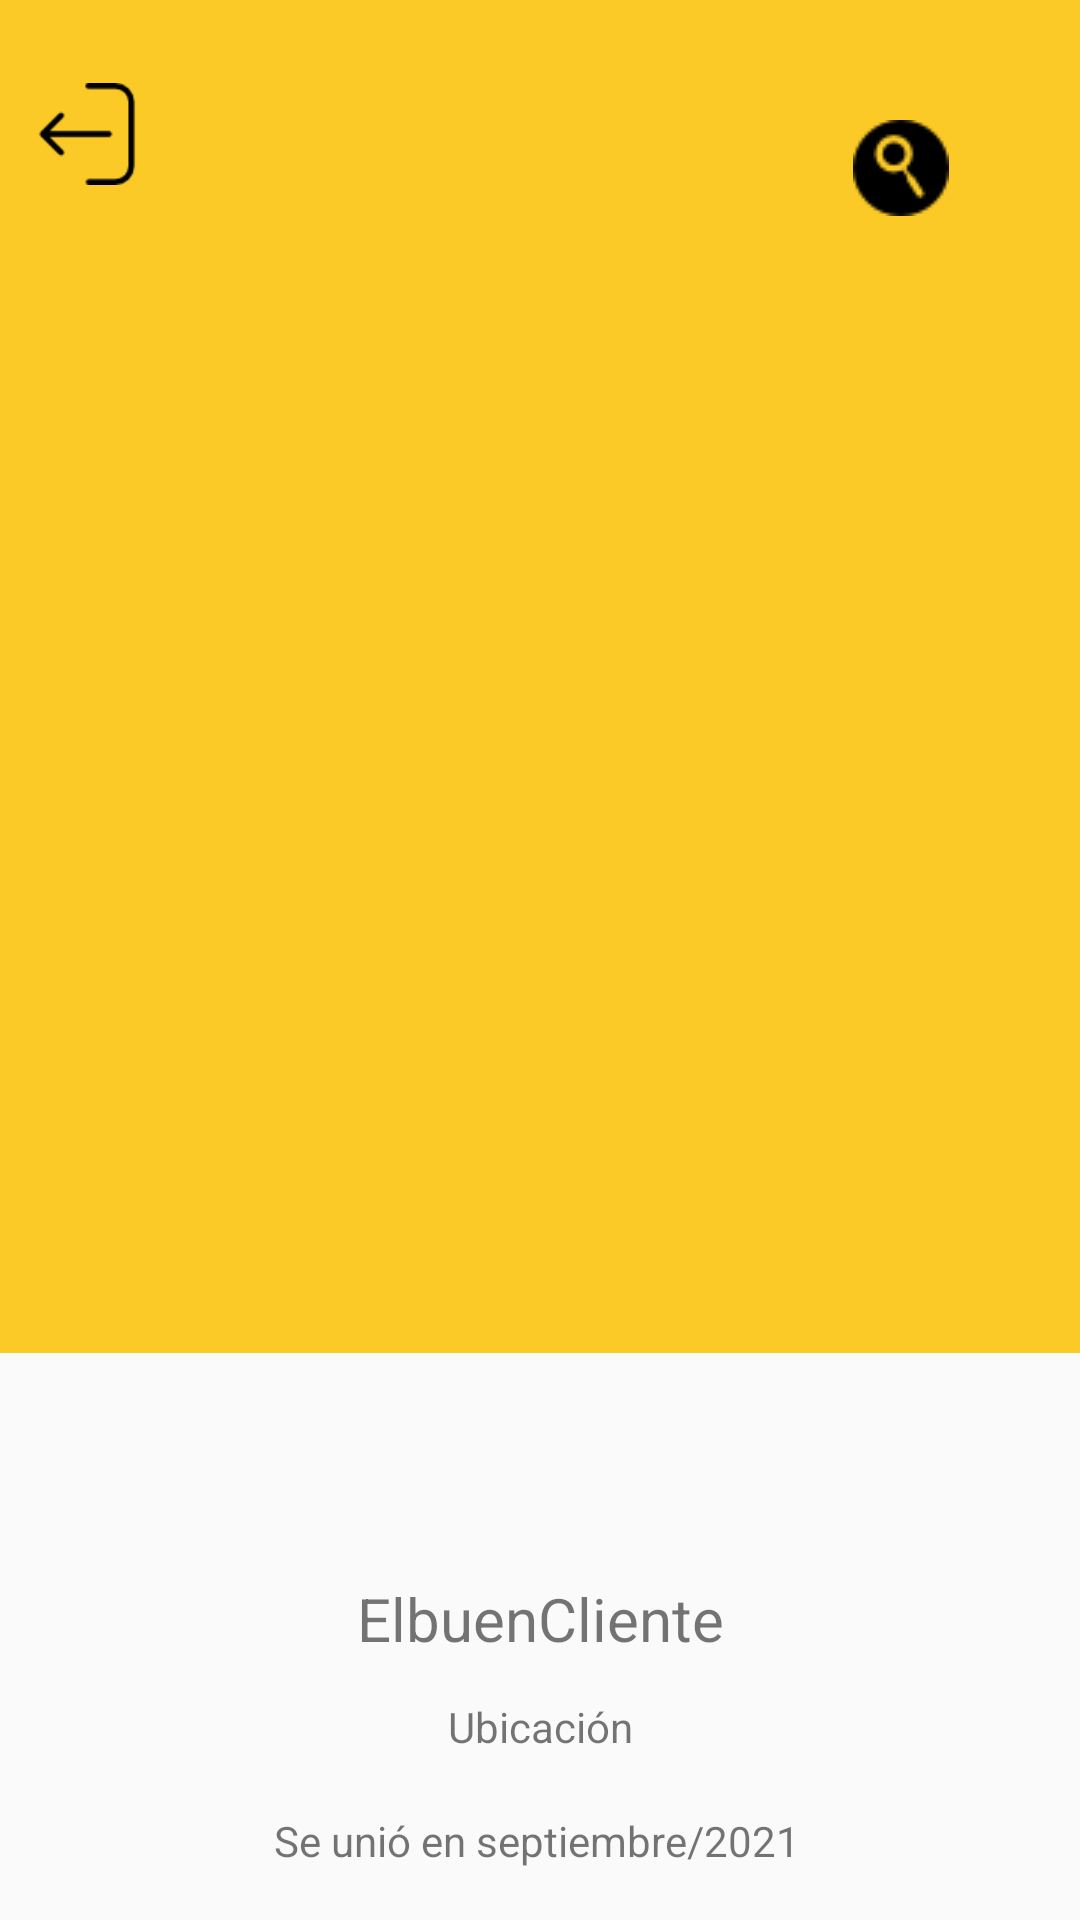

Screen size 1080 × 1920. Icon name, then its box in pixels as BBox(x1, y1, x2, y2):
search: BBox(853, 120, 949, 216)
